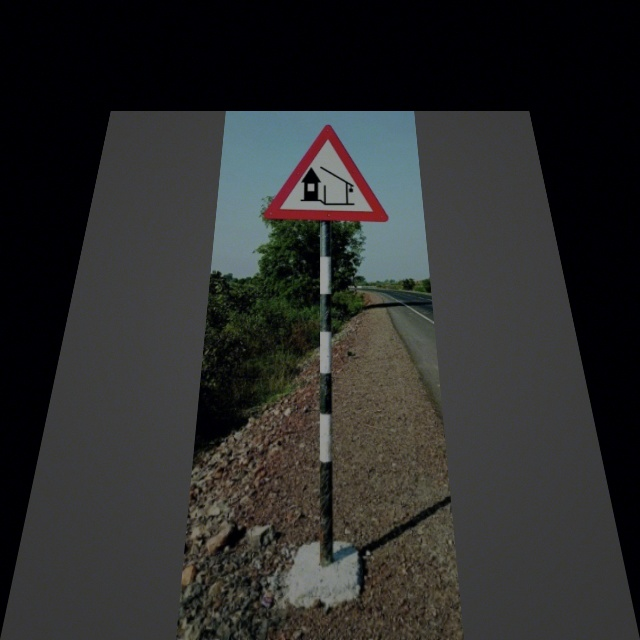Barrier_Ahead: (266, 126, 387, 219)
